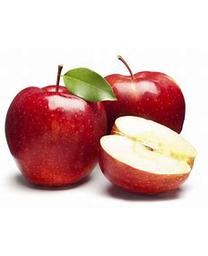apple: (5, 65, 108, 188), (98, 117, 195, 196), (102, 57, 185, 136)
